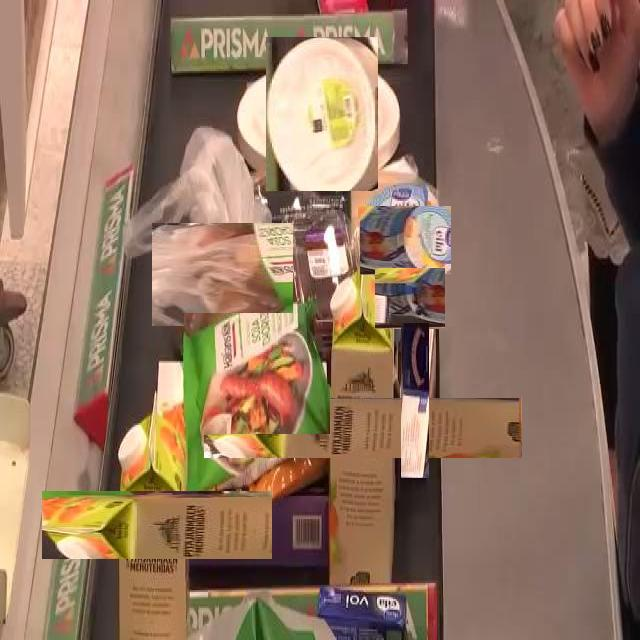beverage: (269, 333, 458, 522), (83, 450, 232, 600)
food-box: (364, 200, 445, 282), (400, 322, 429, 478), (377, 266, 442, 332)
fruit: (277, 219, 360, 341)
utility-box: (256, 47, 389, 181)
vegetable: (184, 313, 330, 434), (161, 213, 284, 336)
